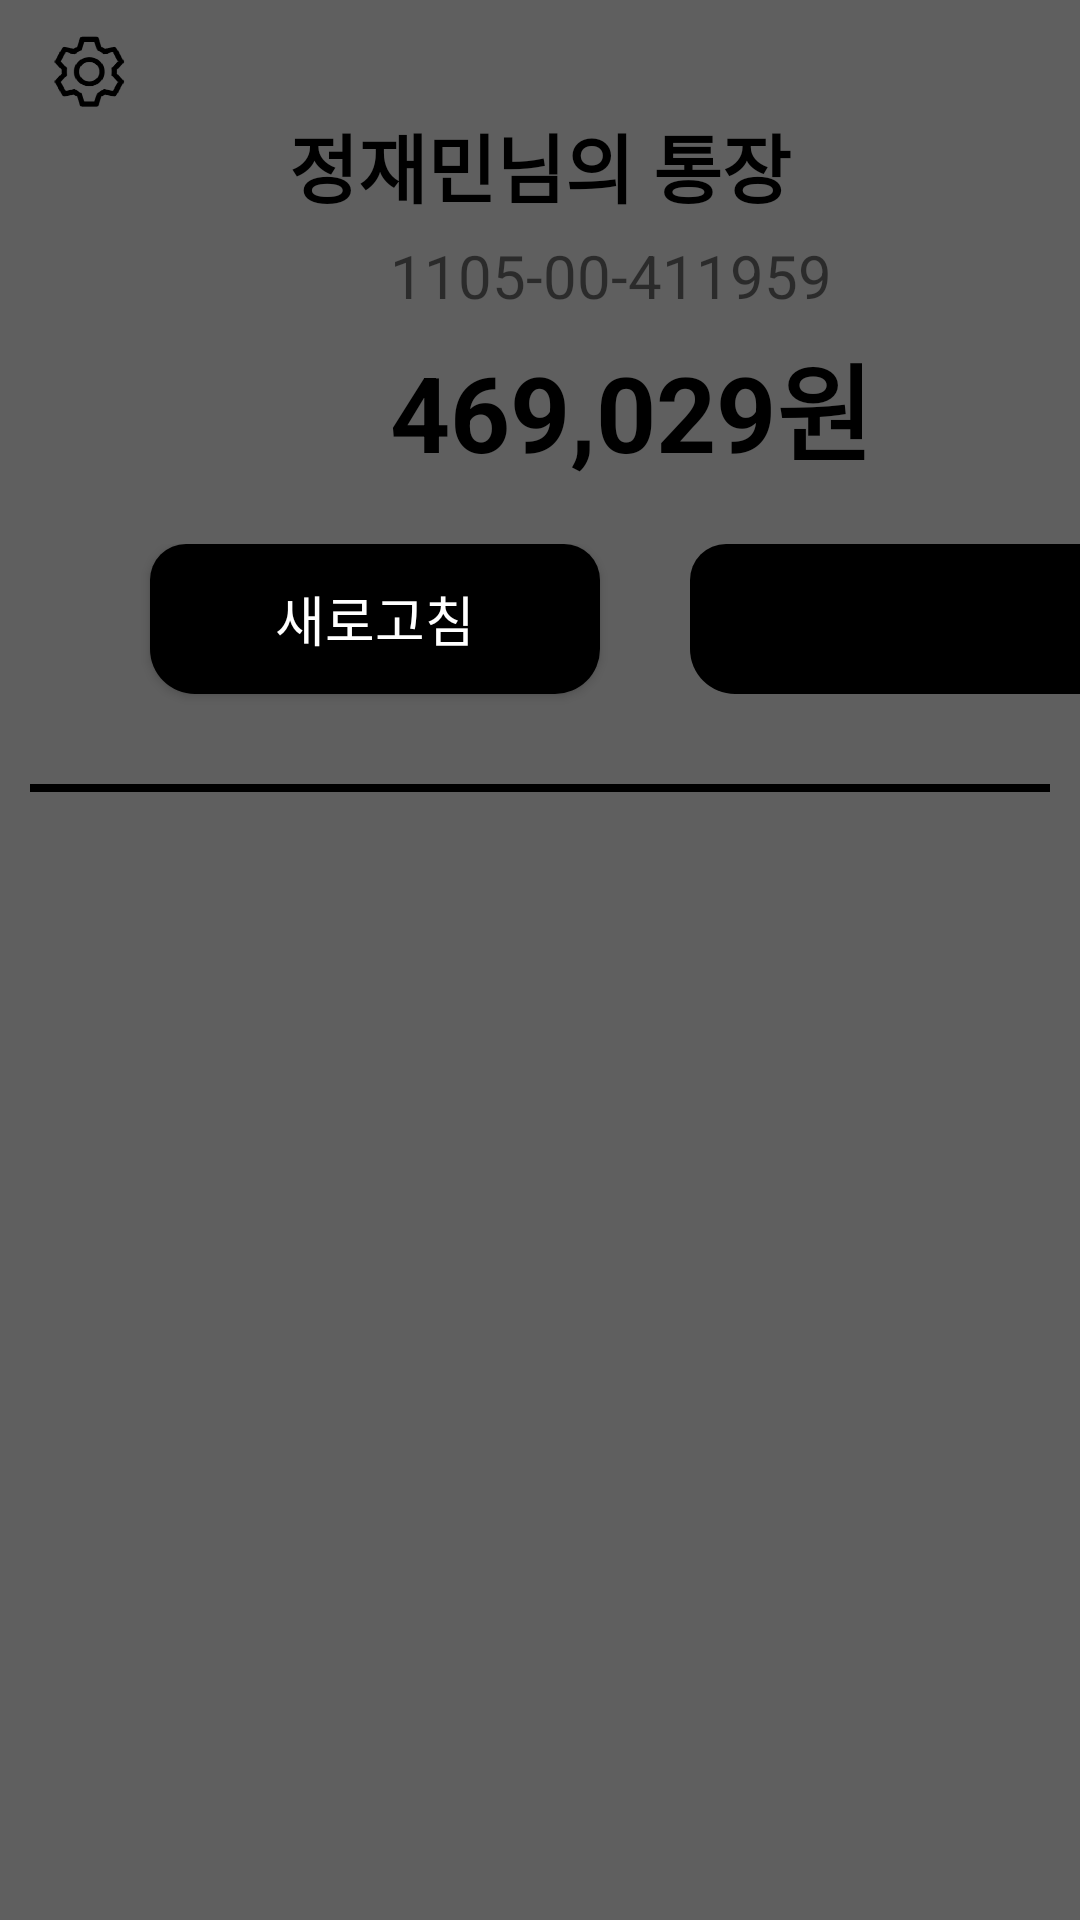

Screen size 1080 x 1920. Icon name, then its box in pixels as (x1, y1, x2, y2):
setting: (54, 36, 124, 107)
